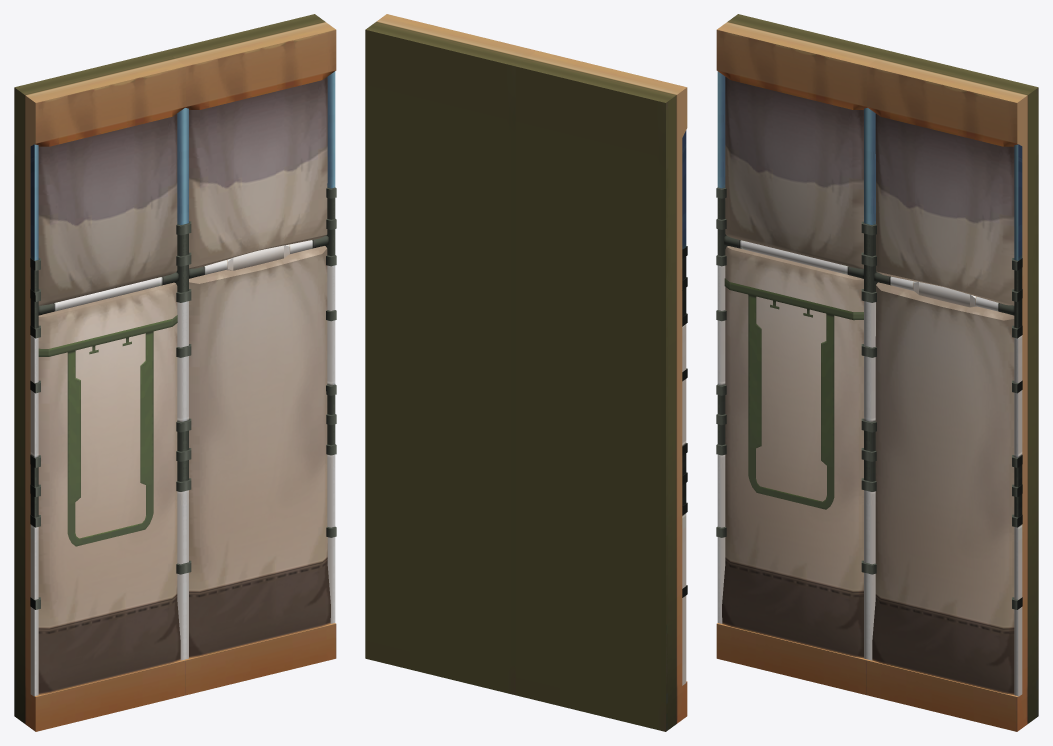
File: my_military_01_wall_left_1x2.glb
3 renders of one model, left to right at view 1: azimuth 30°, elevation 25°; view 2: azimuth 150°, elevation 25°; view 3: azimuth 330°, elevation 25°, orthographic.
Visible parts, largest first — view 1: my_military_01_wall_left_02, my_military_01_wall_left_01; view 2: my_military_01_wall_left_02, my_military_01_wall_left_01; view 3: my_military_01_wall_left_01, my_military_01_wall_left_02.
Boxes of the visible parts, x1=… form: my_military_01_wall_left_02: x1=14, y1=50, x2=186, y2=731; my_military_01_wall_left_01: x1=165, y1=14, x2=336, y2=695; my_military_01_wall_left_02: x1=515, y1=50, x2=687, y2=731; my_military_01_wall_left_01: x1=365, y1=14, x2=536, y2=695; my_military_01_wall_left_01: x1=866, y1=50, x2=1038, y2=731; my_military_01_wall_left_02: x1=716, y1=14, x2=887, y2=695.
Bounding box in the file's own units: 0.0241 × 0.048 × 0.00298.
Materials: 1 (1 with a texture image).
